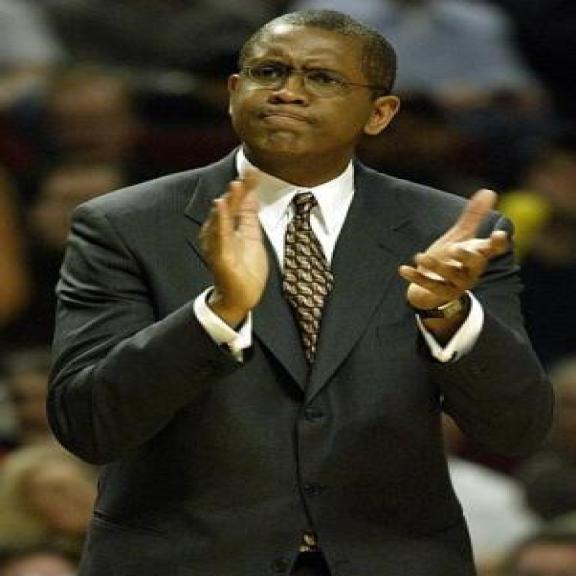face: (230, 22, 405, 168)
